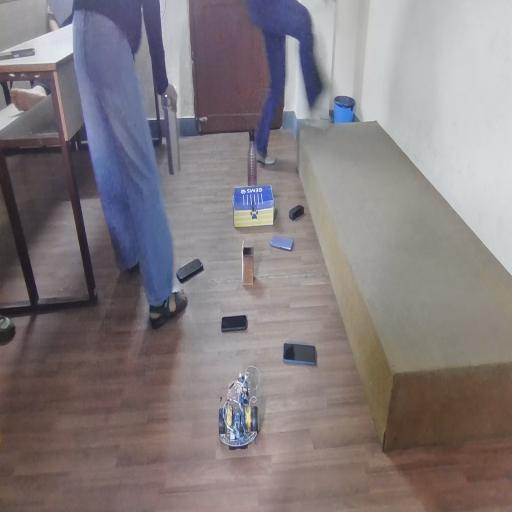Bottle: (249, 124, 264, 175)
car: (211, 378, 266, 453)
